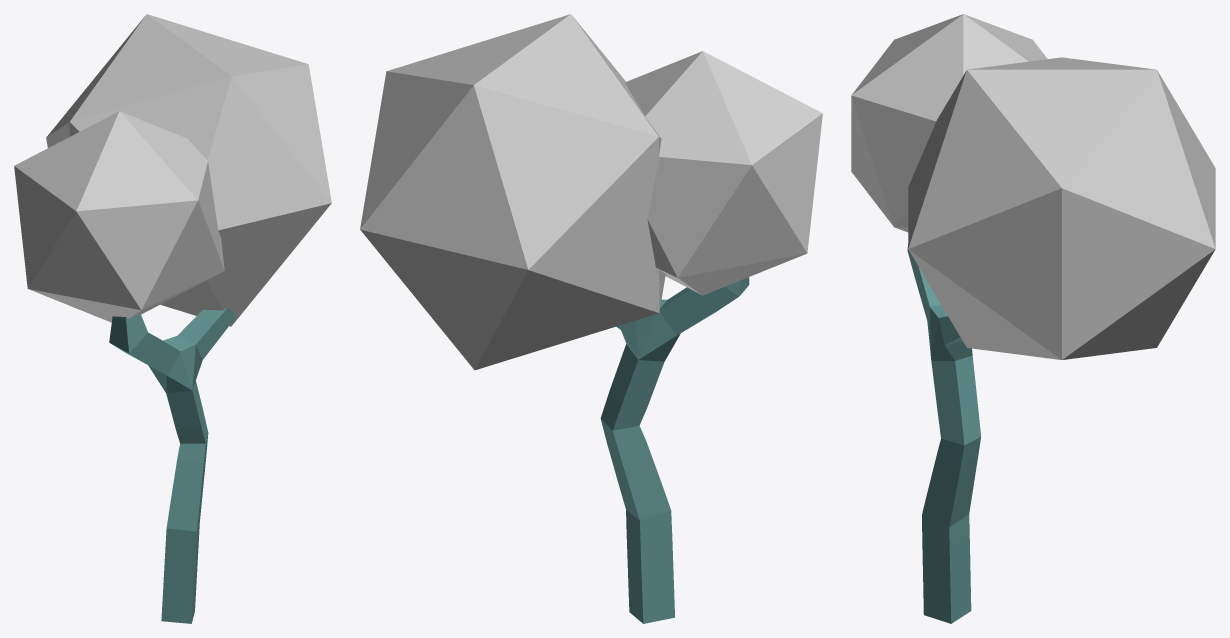
The model's file is tree.fbx.
3 views of the same model, side by side, from view 1: azimuth 30°, elevation 25°; view 2: azimuth 150°, elevation 25°; view 3: azimuth 270°, elevation 25° (orthographic). The views are drawn at different scales.
Parts seen in each view (by area): view 1: Icosphere.001, Icosphere, Cube; view 2: Icosphere.001, Icosphere, Cube; view 3: Icosphere.001, Icosphere, Cube.
Part boxes in pixels (left/top/right/bottom): Icosphere.001: left=46, top=14, right=331, bottom=326; Icosphere: left=14, top=111, right=224, bottom=322; Cube: left=109, top=307, right=236, bottom=623; Icosphere.001: left=360, top=14, right=665, bottom=370; Icosphere: left=625, top=51, right=822, bottom=295; Cube: left=600, top=277, right=749, bottom=623; Icosphere.001: left=908, top=57, right=1215, bottom=359; Icosphere: left=851, top=14, right=1047, bottom=232; Cube: left=907, top=244, right=981, bottom=623.
Bounding box in the file's own units: 1.78 × 2.72 × 1.55.
